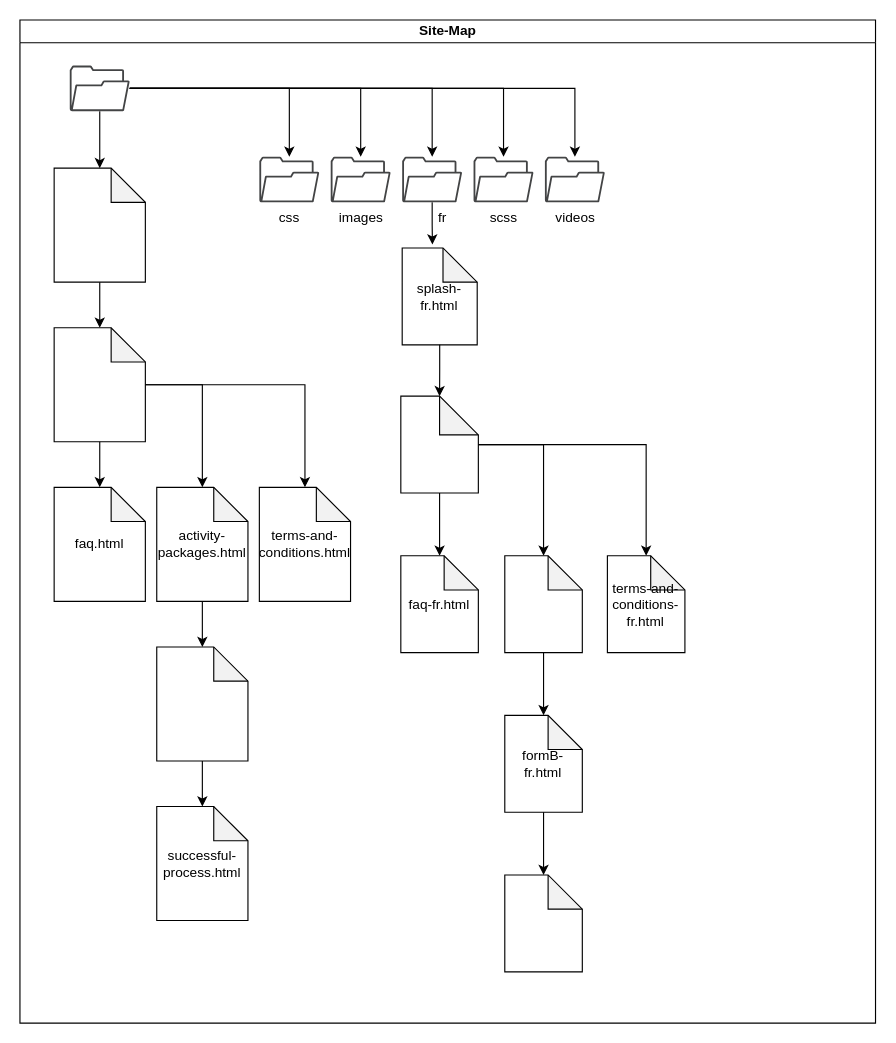
The diagram is 896 pixels wide and 1043 high, and some of its shapes have lost their labels. The centre of each missing label's shape, as x and y in pixels:
.rootSSotM: [99,88]
activity-packages-fr.html: [543,604]
formB.html: [202,703]
index-fr.html: [439,444]
index.html: [99,384]
splash.html: [99,224]
successful-process-fr.html: [543,923]
